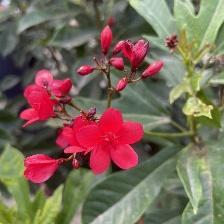jatropha: (77, 109, 148, 177)
